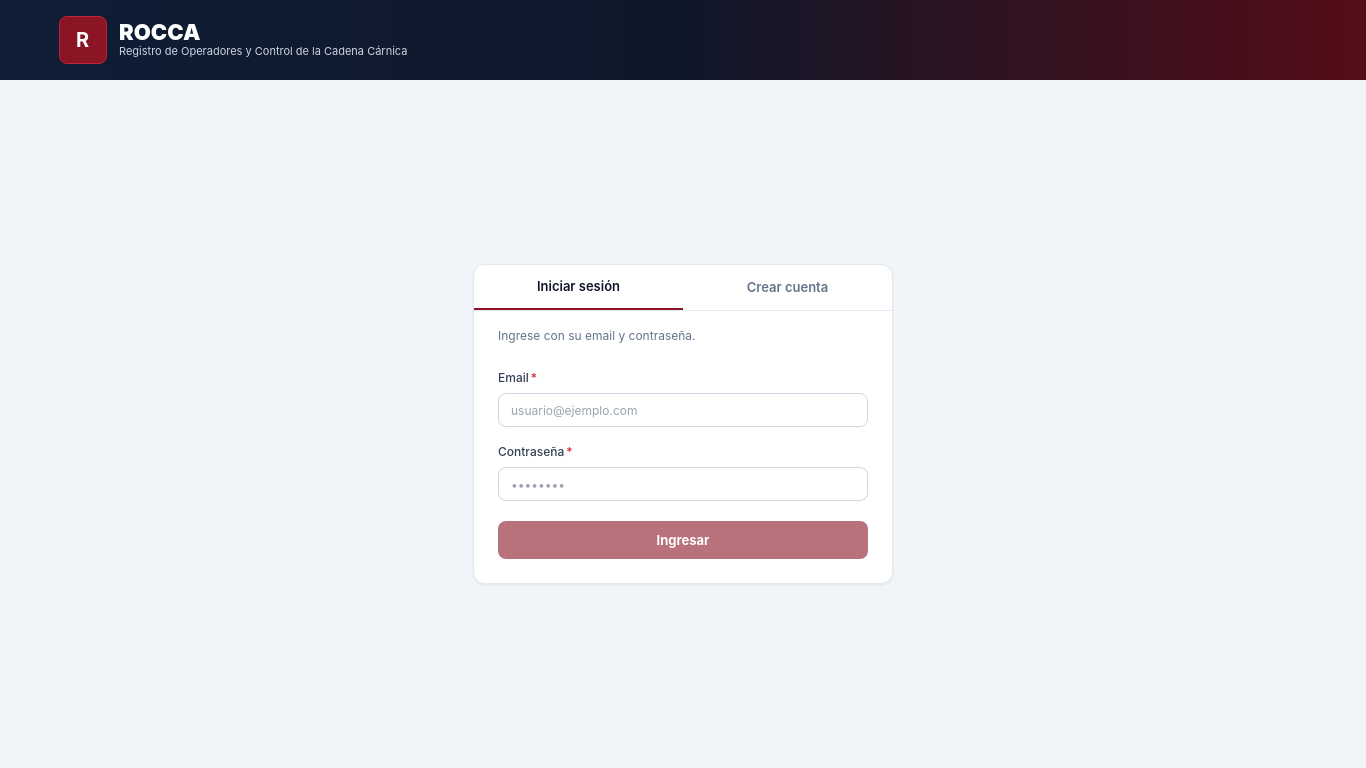
Test case: Integración · Login › login fallido: muestra el error y permanece en /login
The image size is (1366, 768).
Type "bad@user.gob.ar" into the field labelled "Email*" at (683, 410), box [498,393,868,427]
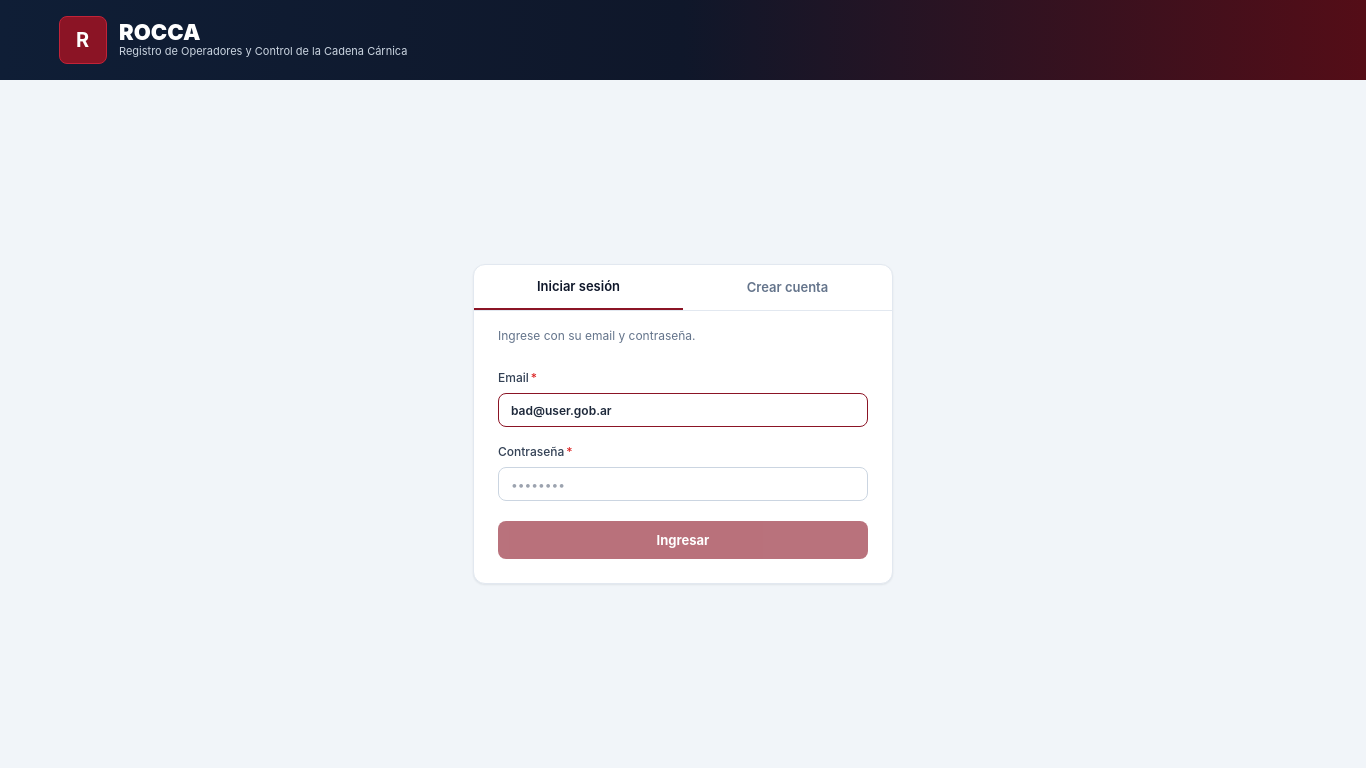
Type "clave-mala" into the password field labelled "Contraseña*" at (683, 484), box [498,467,868,501]
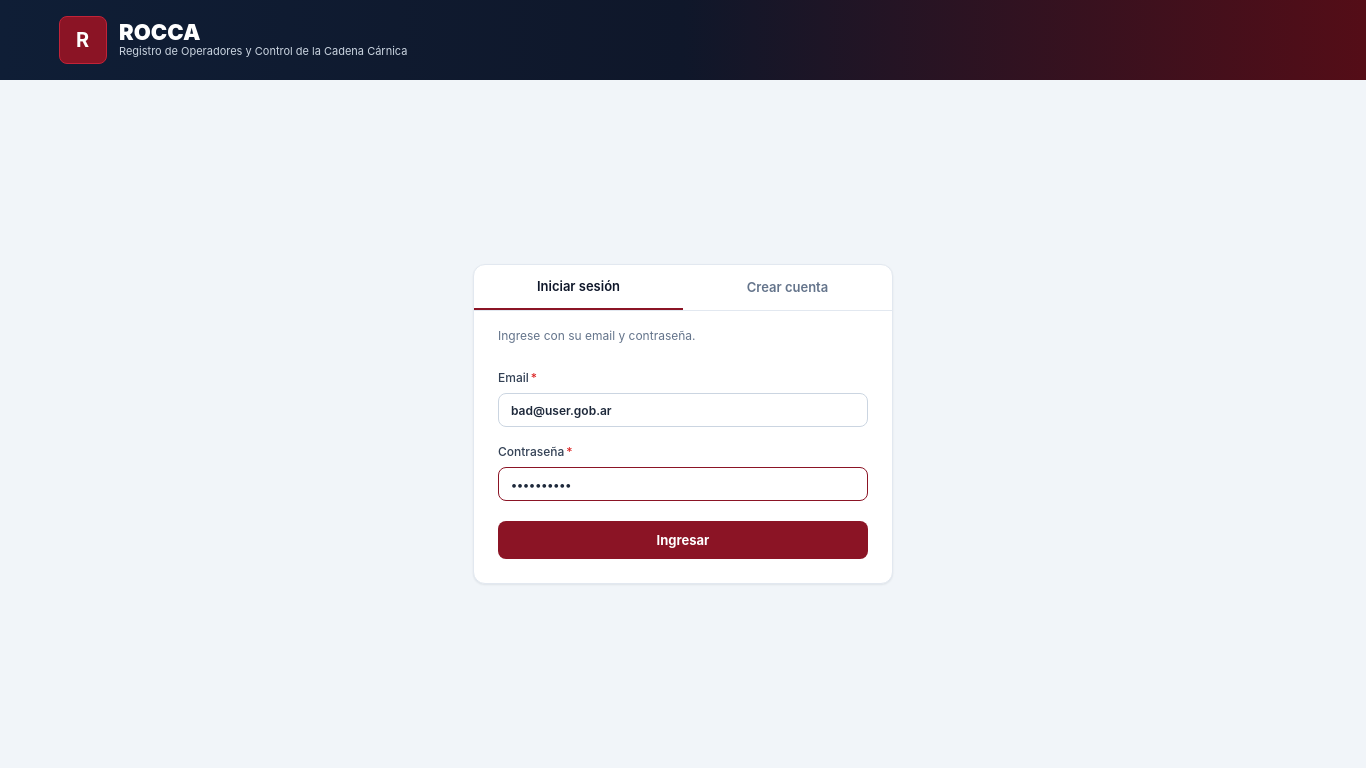
Click the button "Ingresar" at (683, 540), box [498,521,868,559]
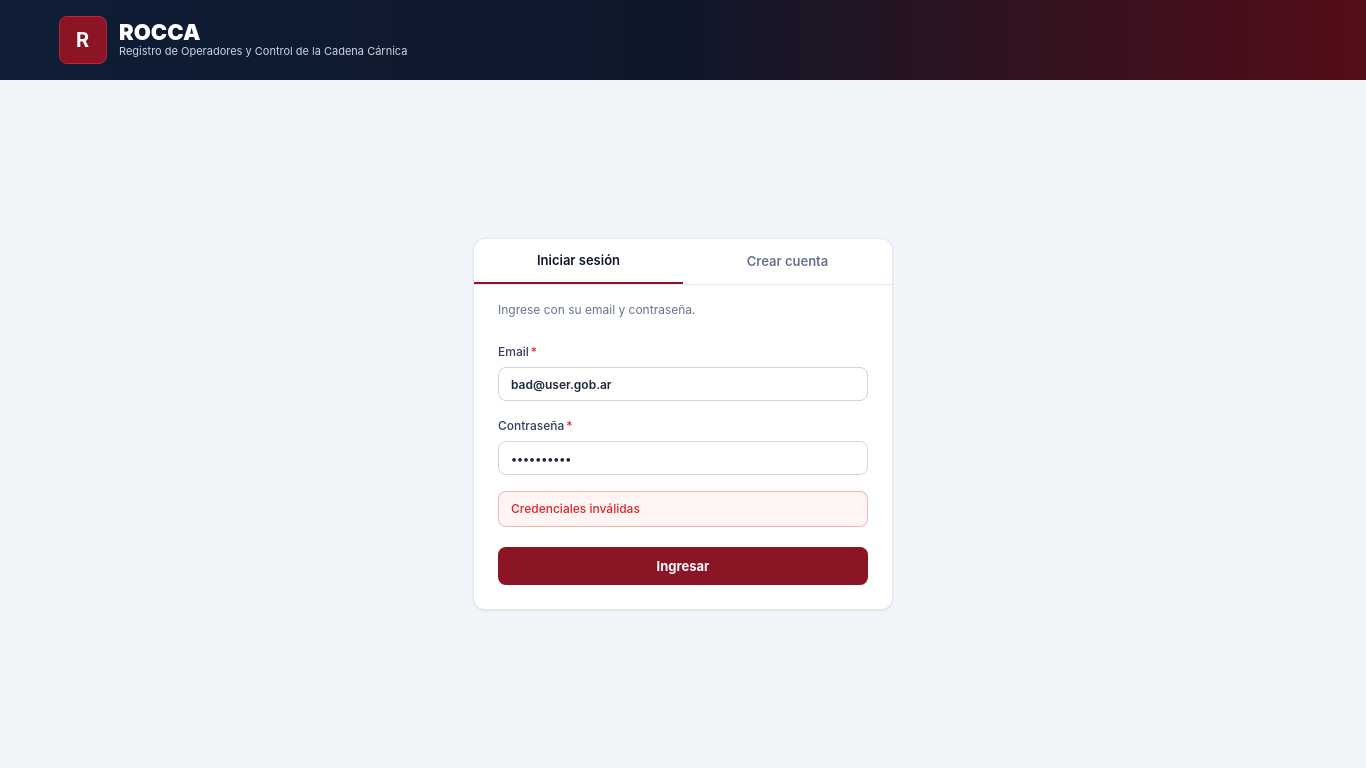
Expected: the button "Ingresar" is shown, [498,547,868,585]
Result: the text "Credenciales inválidas" is shown at [498,491,868,527]
